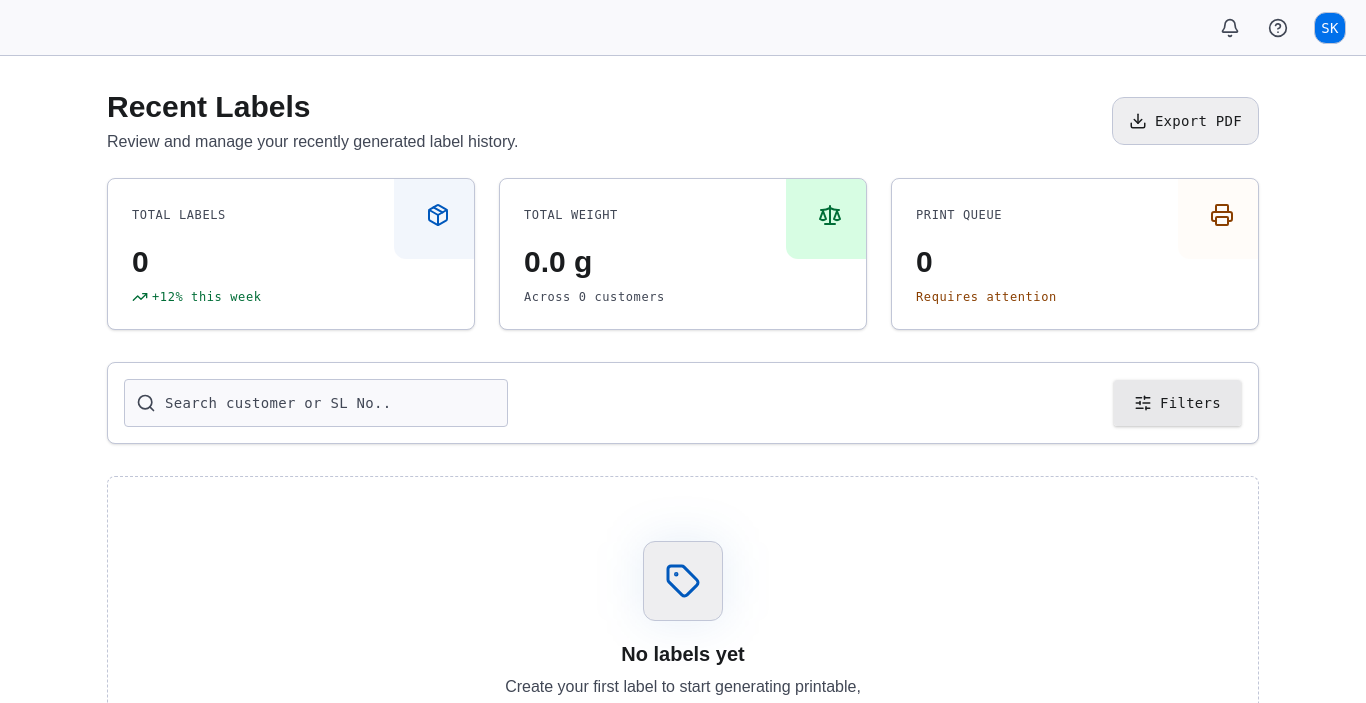
Test: Dashboard filter sheet — presets › opens the sheet and shows every preset
Click the button "Filters".
click(1178, 403)  # box [1113, 379, 1242, 427]
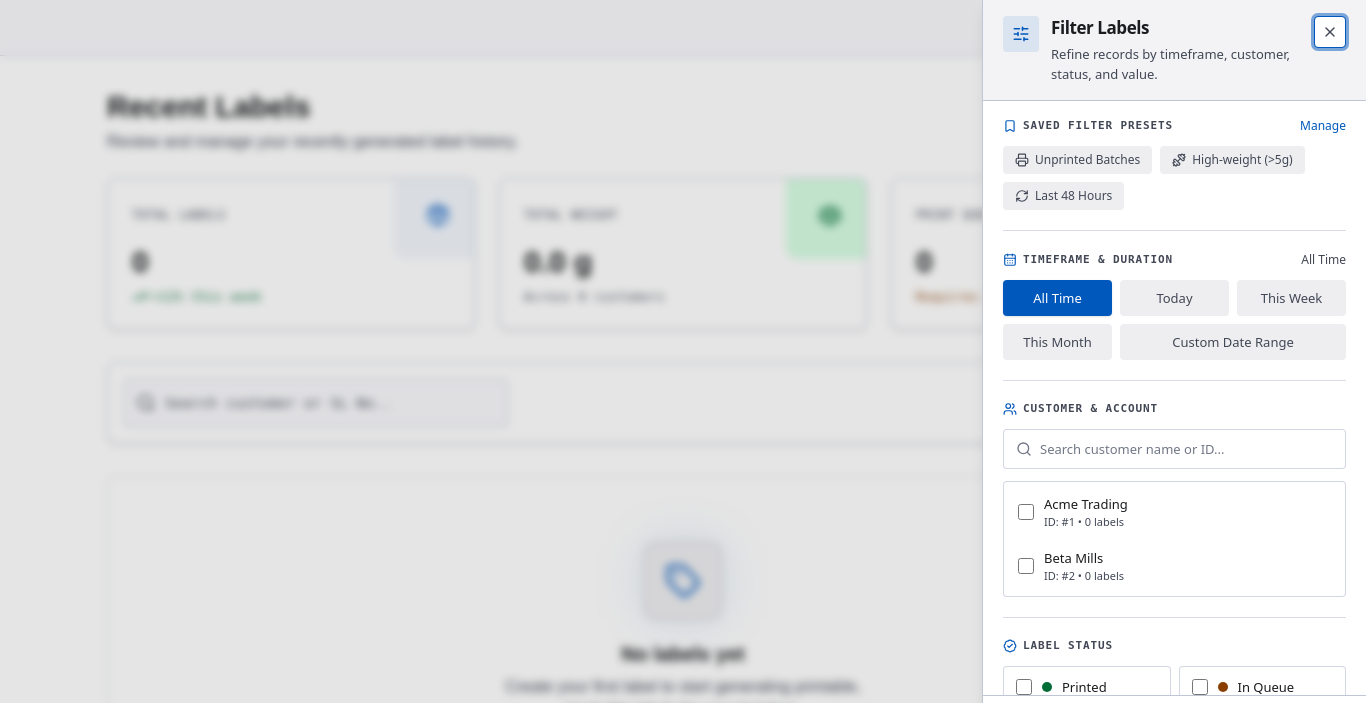
Expected: the heading "Filter Labels" is shown, [1051, 16, 1149, 40]
Expected: the button "Unprinted Batches" is shown, [1003, 146, 1152, 174]
Expected: the button "High-weight (>5g)" is shown, [1160, 146, 1305, 174]
